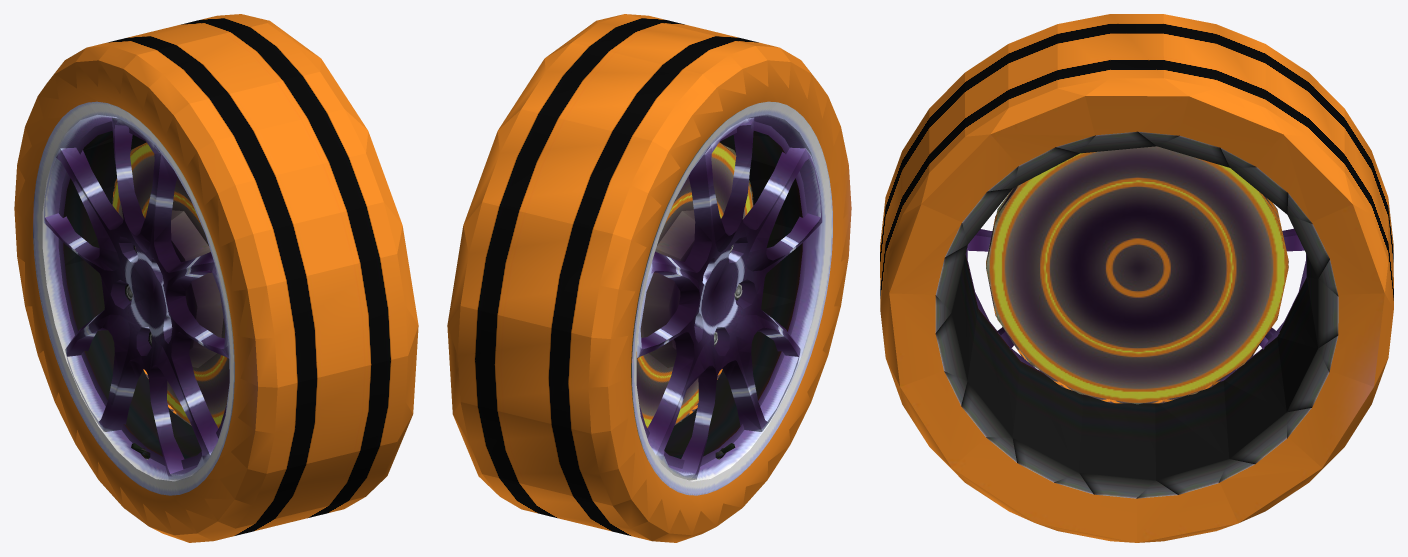
Rendered from wheel.obj.
The picture shows the model from 3 angles, left to right: view 1: azimuth 30°, elevation 25°; view 2: azimuth 150°, elevation 25°; view 3: azimuth 270°, elevation 25°; orthographic projection.
Visible parts, largest first — view 1: part_026; view 2: part_026; view 3: part_026.
Part boxes in pixels (x1,y1,x2,y2): part_026: [14, 14, 418, 542]; part_026: [447, 14, 851, 542]; part_026: [880, 14, 1393, 542].
Size of the model in its own units: 0.2462 by 0.6574 by 0.6612.
